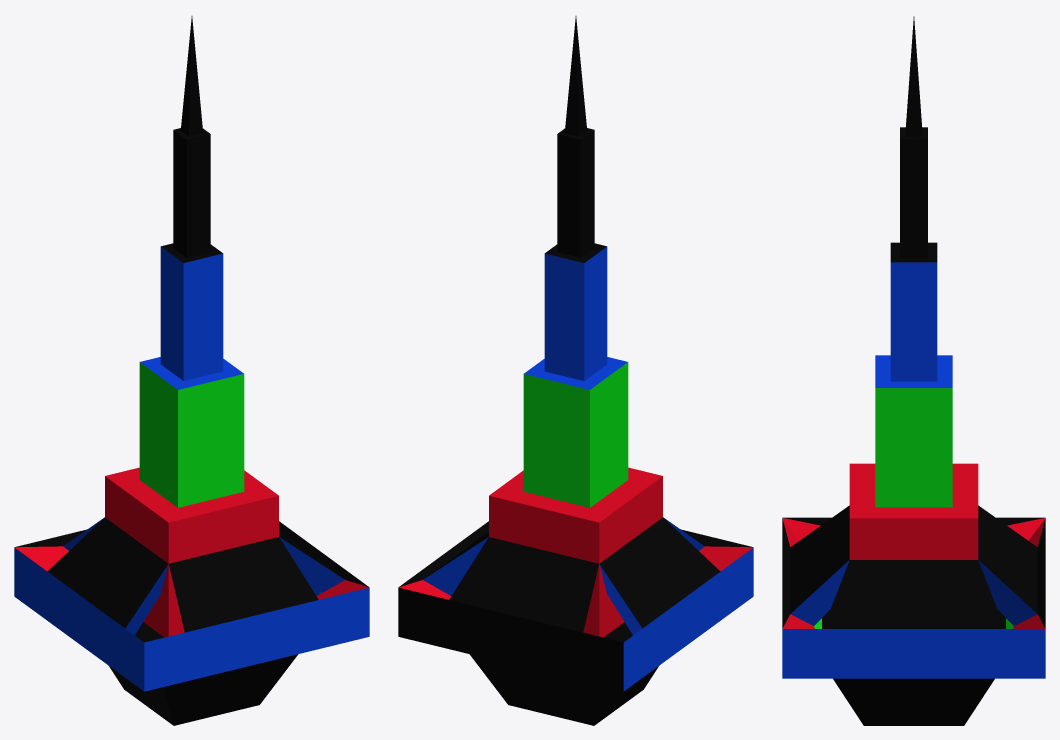
Rendered from powerPlant.fbx.
The picture shows the model from 3 angles, left to right: view 1: azimuth 30°, elevation 25°; view 2: azimuth 150°, elevation 25°; view 3: azimuth 270°, elevation 25°; orthographic projection.
Visible parts, largest first — view 1: Cube.001; view 2: Cube.001; view 3: Cube.001.
Boxes of the visible parts, <box> form: Cube.001: <box>14,16,369,725</box>; Cube.001: <box>398,16,753,725</box>; Cube.001: <box>782,16,1045,725</box>.
Bounding box in the file's own units: 200 × 579 × 200.
